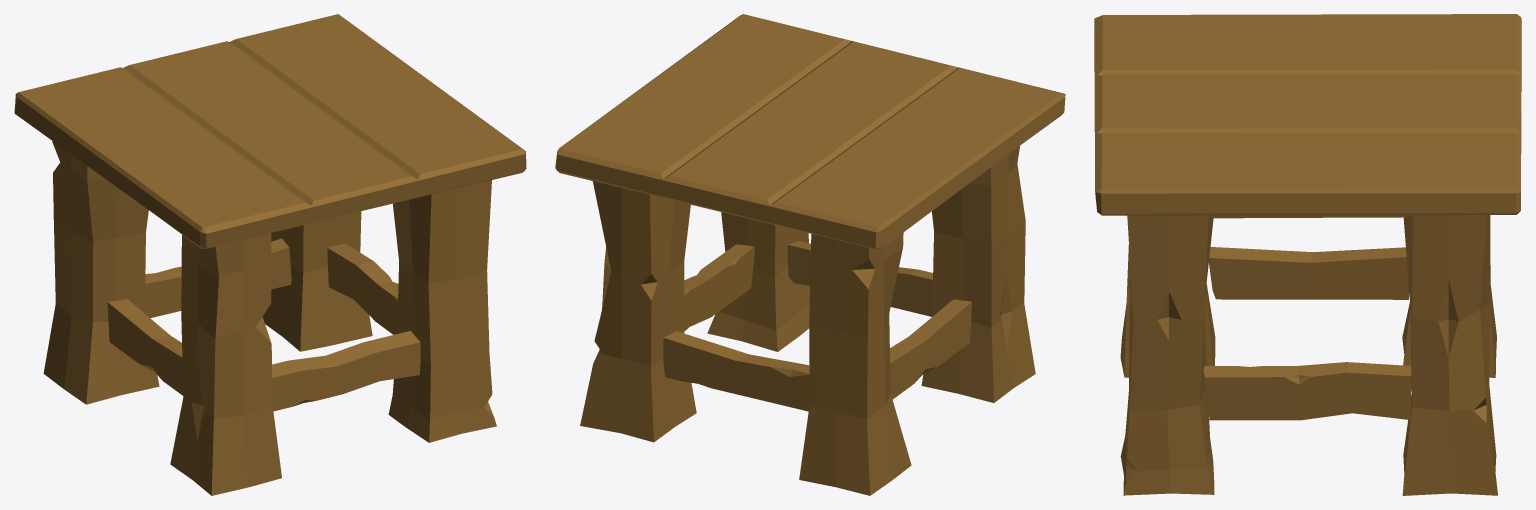
Rendered from Chair_Wood.fbx.
The picture shows the model from 3 angles, left to right: view 1: azimuth 30°, elevation 25°; view 2: azimuth 150°, elevation 25°; view 3: azimuth 270°, elevation 25°; orthographic projection. The views are drawn at different scales.
Visible parts, largest first — view 1: Cube.001; view 2: Cube.001; view 3: Cube.001.
Part boxes in pixels (box(x1,y1,x2,y2)): Cube.001: box(14, 14, 526, 495); Cube.001: box(555, 14, 1065, 495); Cube.001: box(1094, 14, 1521, 495).
Bounding box in the file's own units: 91 × 74.63 × 91.32.
